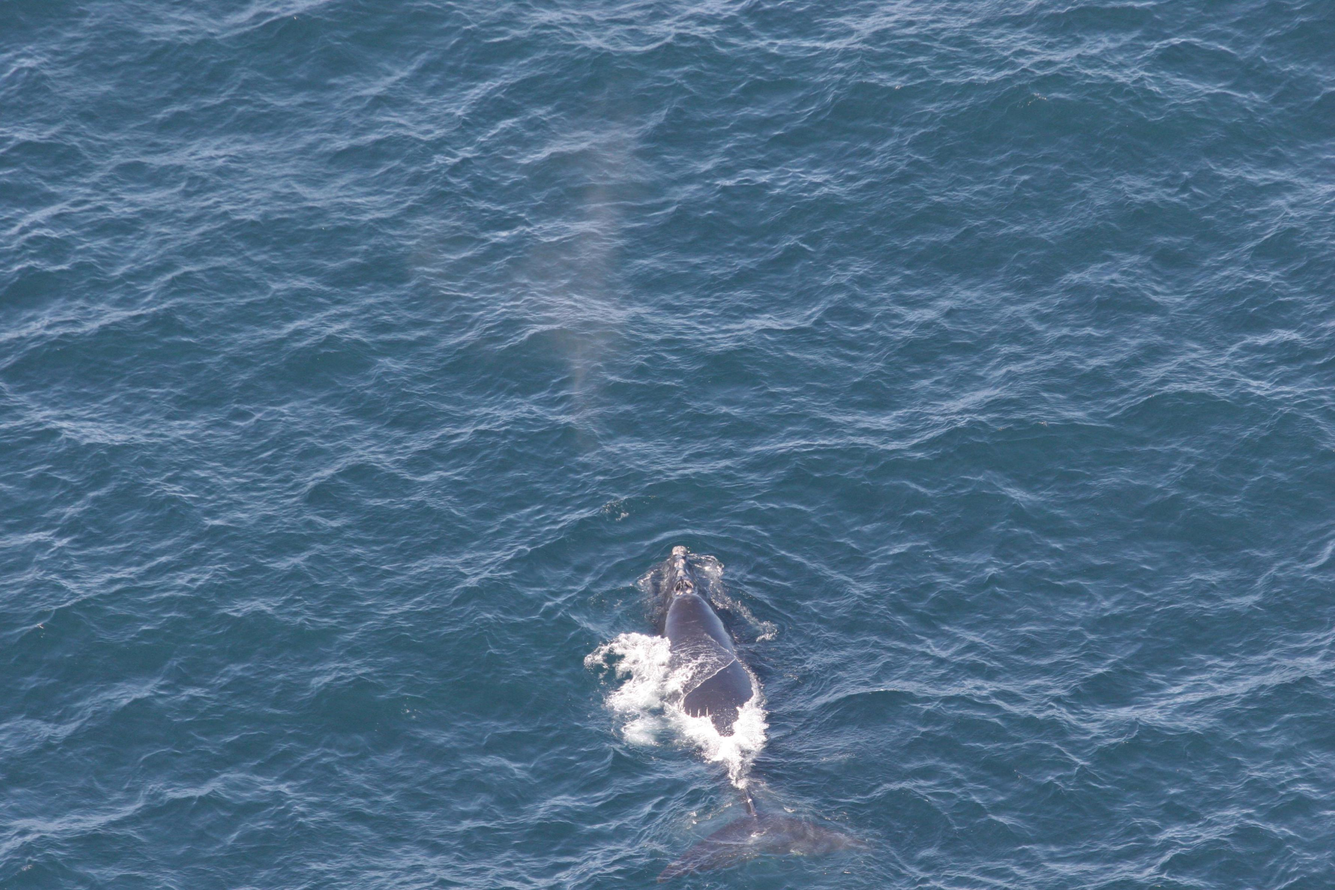whale: (619, 538, 892, 886)
